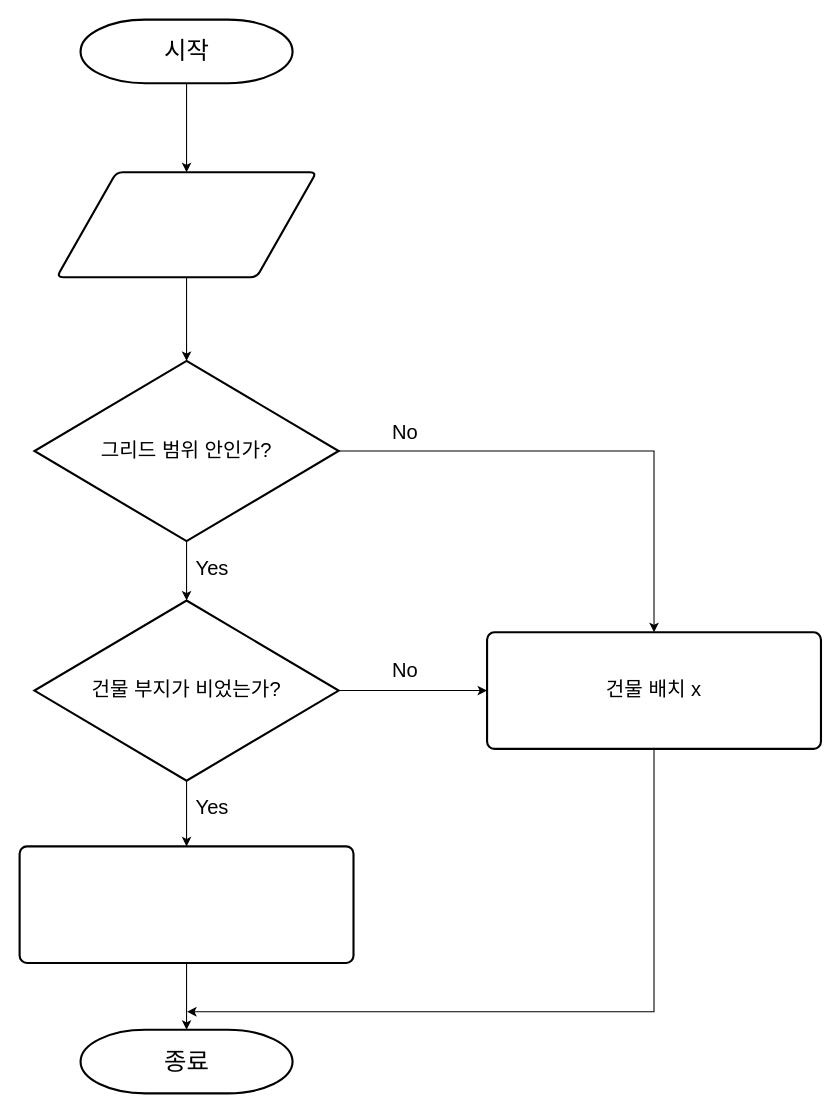
Some shapes in this 840 by 1112 pixel diagram are drawn without their labels. Here are the shapes that lost their labels. From the top down, the centre of each, then its label:
(x=186, y=224): 건물 배치 시도
(x=186, y=904): 건물 배치O 칸 점령
